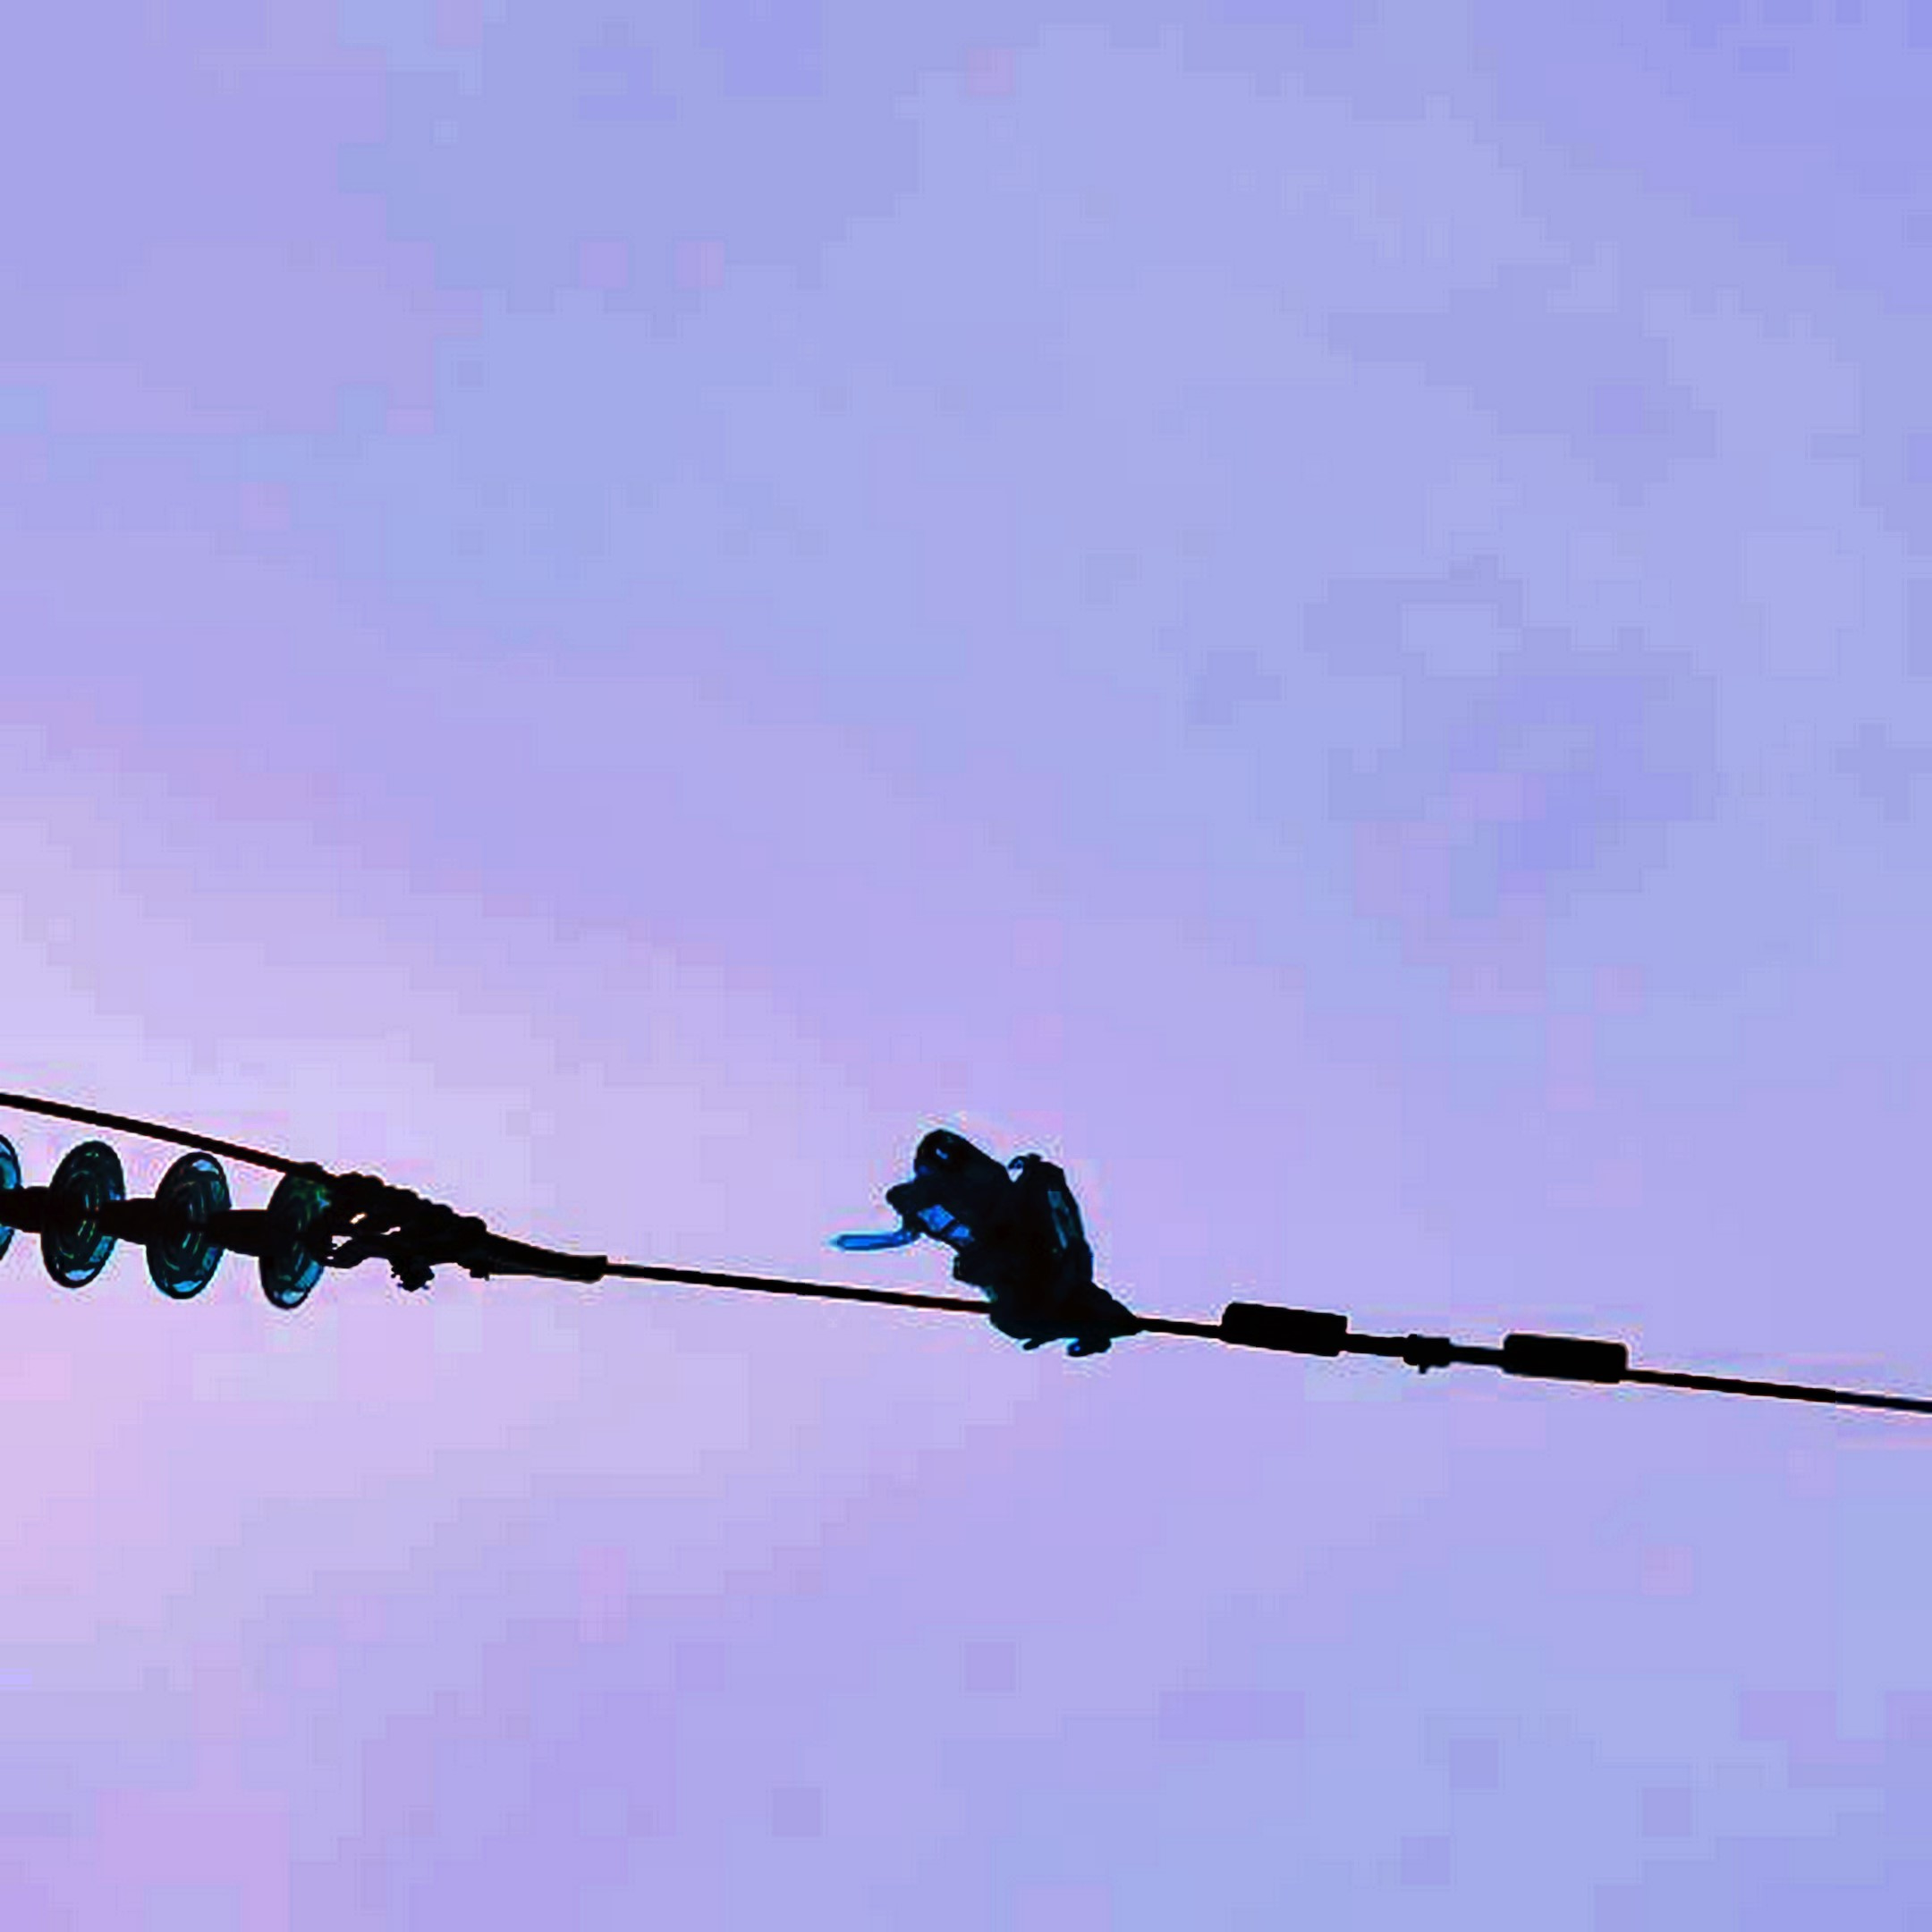wire foreign body: (835, 1109, 1175, 1412)
